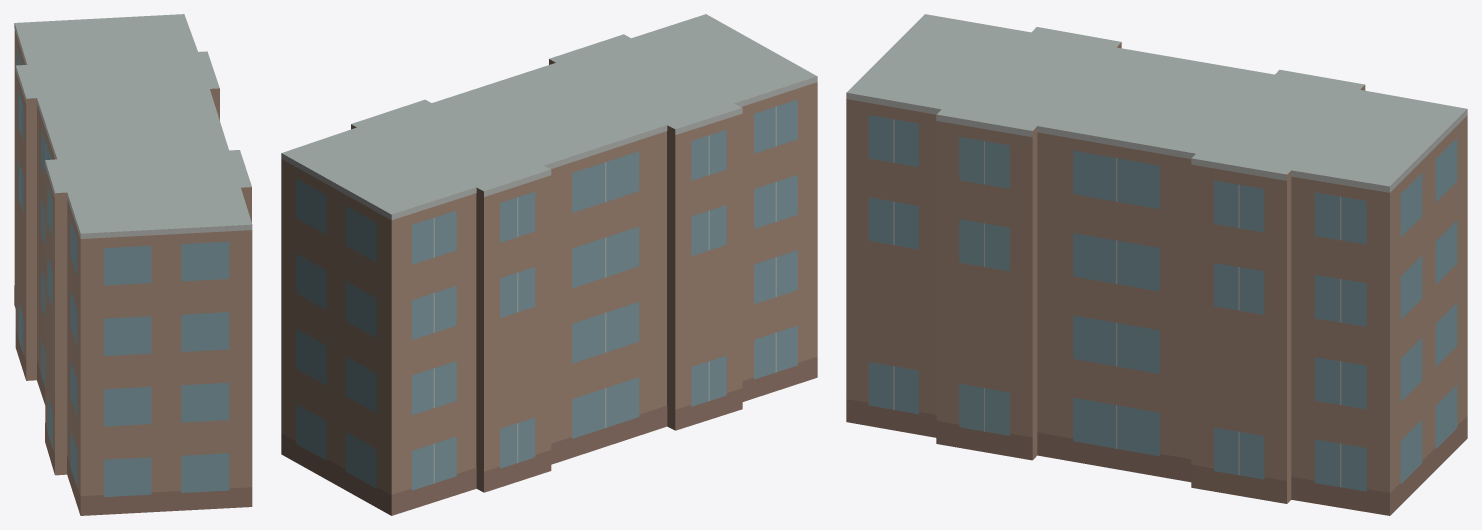
The model's file is survey-upis-32747492.glb.
3 renders of one model, left to right at view 1: azimuth 30°, elevation 25°; view 2: azimuth 150°, elevation 25°; view 3: azimuth 270°, elevation 25°, orthographic. The views are drawn at different scales.
Parts seen in each view (by area): view 1: survey-upis-32747492.tmp; view 2: survey-upis-32747492.tmp; view 3: survey-upis-32747492.tmp.
Boxes of the visible parts, bbox=[...] form: survey-upis-32747492.tmp: bbox=[14, 14, 252, 515]; survey-upis-32747492.tmp: bbox=[281, 14, 817, 515]; survey-upis-32747492.tmp: bbox=[846, 14, 1467, 515].
Bounding box in the file's own units: 14.39 × 12.8 × 21.9.
